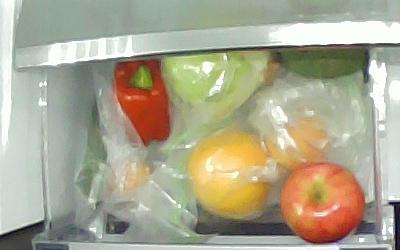apple: (282, 161, 364, 243)
grapefruit_vinyl: (186, 132, 271, 219)
lettuce_vinyl: (157, 48, 268, 109)
paprika: (110, 61, 171, 148)
peach_vinyl: (265, 116, 330, 169)
